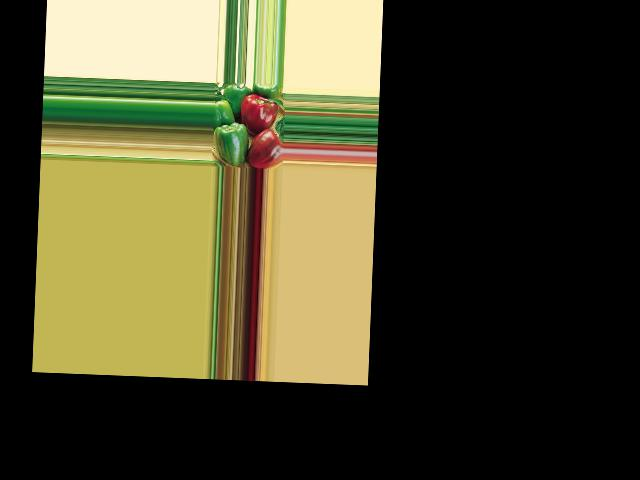bell_pepper: (249, 128, 282, 169)
